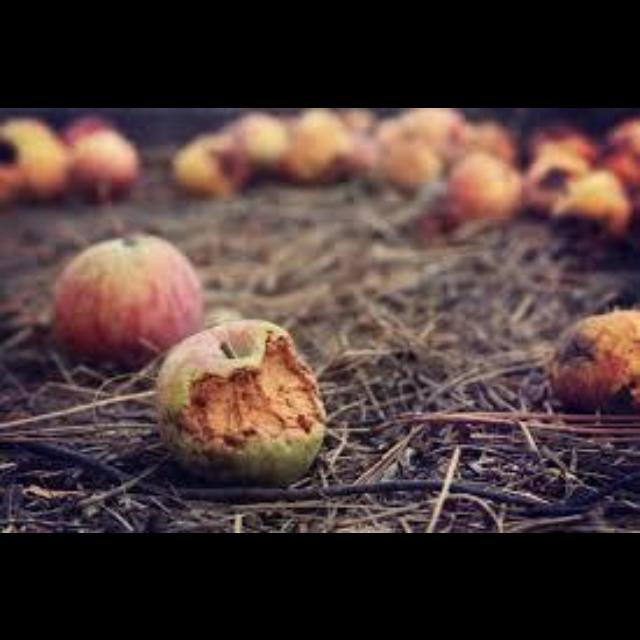apple: (156, 319, 323, 484), (54, 233, 202, 363), (549, 309, 638, 410)
rotten: (174, 332, 319, 451), (549, 309, 638, 410)
